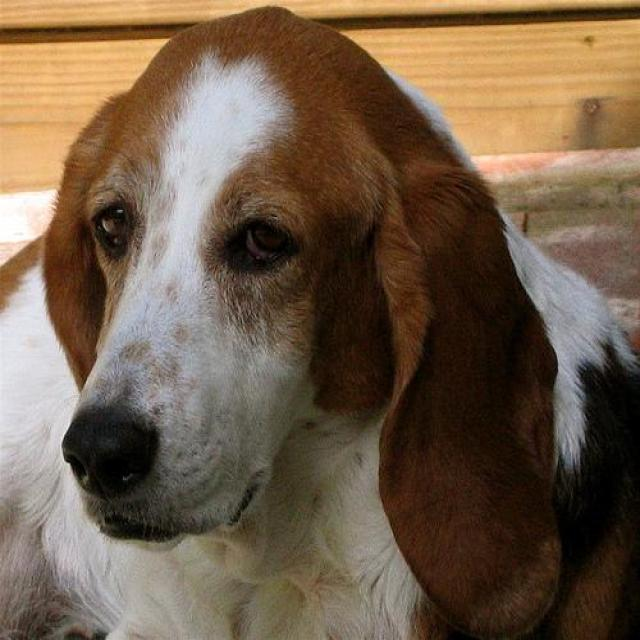basset: (0, 4, 637, 637)
